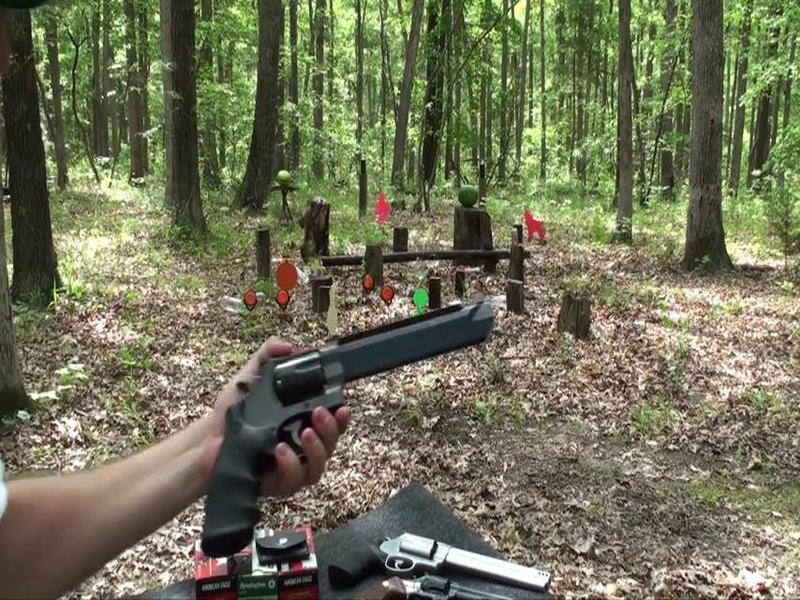Revolver: (197, 296, 512, 560)
